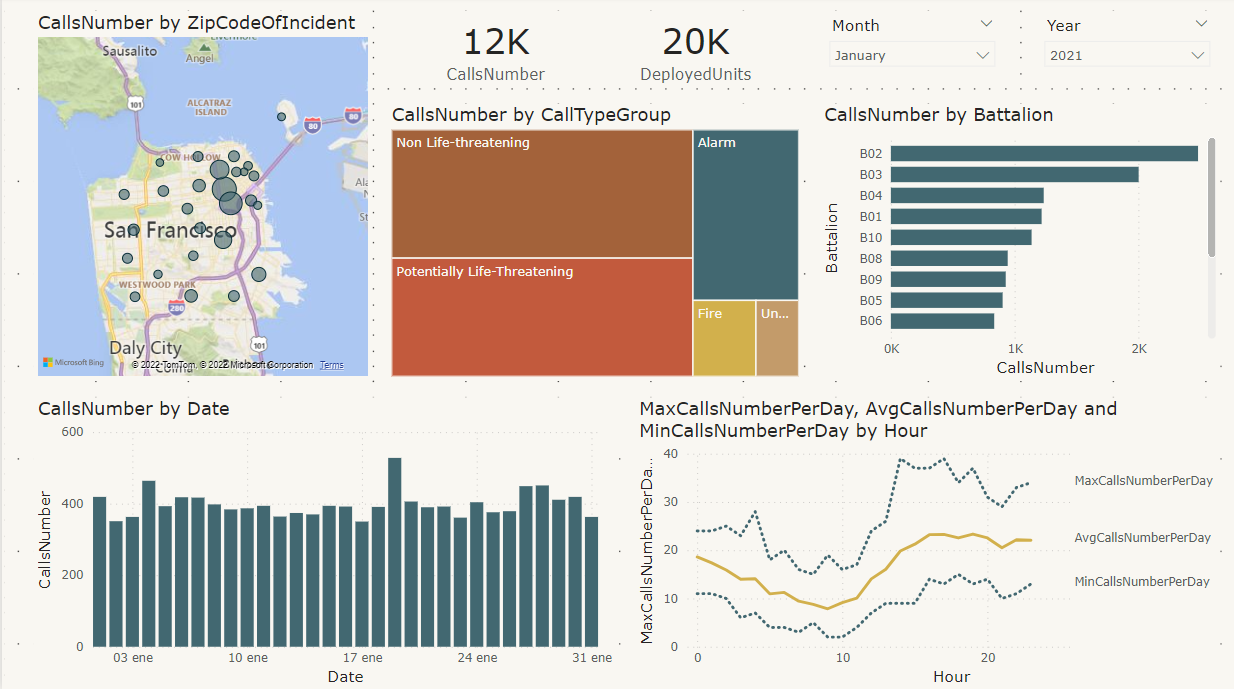

The page's visual inventory and layout, read from the dashboard file:
{"tool":"powerbi","page":{"name":"Montly Report","canvas":[1280,720],"ordinal":1},"visuals":[{"type":"slicer","fields":{"Values":["ReceivedDate.Year"]},"box":[1072,16,192,80],"z":0},{"type":"slicer","fields":{"Values":["ReceivedDate.Month"]},"box":[848,16,192,80],"z":1000},{"type":"lineChart","fields":{"Category":["ReceivedTime.Hour"],"Y":["Calls.Max#OfCallPerDay","Calls.Avg#OfCallPerDay","Calls.Min#OfCallPerDay"]},"box":[656,416,608,304],"z":2000},{"type":"card","fields":{"Values":["Calls.NumberOfCalls"]},"box":[416,16,192,80],"z":3000},{"type":"columnChart","fields":{"Category":["ReceivedDate.Date"],"Y":["Calls.NumberOfCalls"]},"box":[32,416,608,304],"z":4000},{"type":"map","fields":{"Category":["Calls.ZipCodeOfIncident"],"Size":["Calls.NumberOfCalls"]},"box":[32,16,352,384],"z":5000},{"type":"barChart","fields":{"Y":["Calls.CallsNumber"],"Category":["Calls.Battalion"]},"box":[848,112,416,288],"z":6000},{"type":"treemap","fields":{"Group":["Calls.CallTypeGroup"],"Values":["Calls.CallsNumber"]},"box":[400,112,432,288],"z":7000},{"type":"card","fields":{"Values":["CallUnits.DeployedUnits"]},"box":[624,16,192,80],"z":8000}]}

Visuals, with their boxes in screenshot pixels (x1, y1, x2, y2), scaled from the page's 1280x720 canvas onto the 1234x689 screenshot:
slicer - ReceivedDate.Year: Rect(1033, 15, 1219, 92)
slicer - ReceivedDate.Month: Rect(818, 15, 1003, 92)
lineChart - ReceivedTime.Hour x Calls.Max#OfCallPerDay: Rect(632, 398, 1219, 688)
card - Calls.NumberOfCalls: Rect(401, 15, 586, 92)
columnChart - ReceivedDate.Date x Calls.NumberOfCalls: Rect(31, 398, 617, 688)
map - Calls.ZipCodeOfIncident x Calls.NumberOfCalls: Rect(31, 15, 370, 383)
barChart - Calls.CallsNumber x Calls.Battalion: Rect(818, 107, 1219, 383)
treemap - Calls.CallTypeGroup x Calls.CallsNumber: Rect(386, 107, 802, 383)
card - CallUnits.DeployedUnits: Rect(602, 15, 787, 92)
